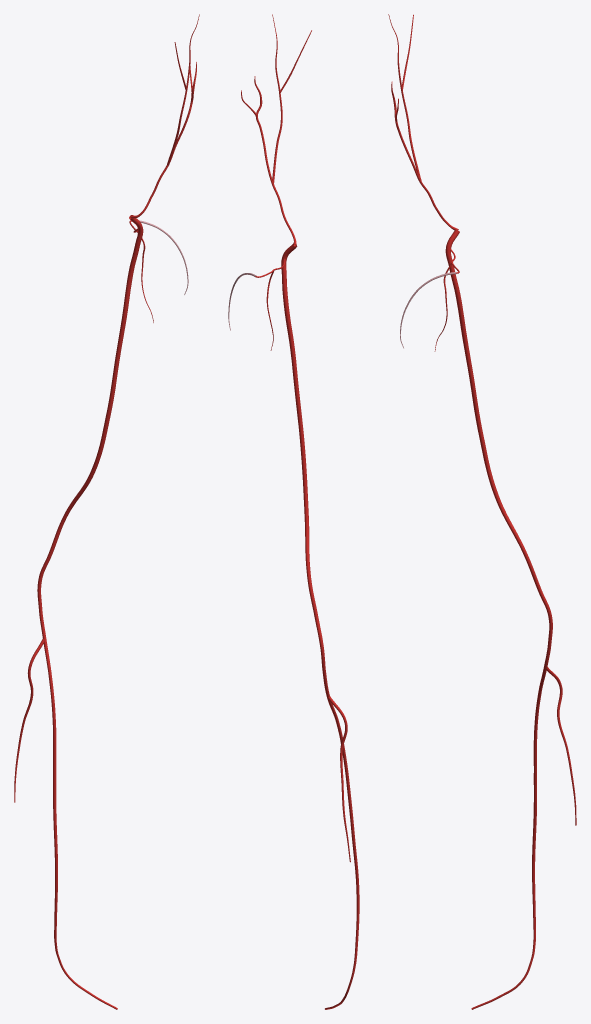
Rendered from circulatorio-great-saphenous-vein-r.glb.
The picture shows the model from 3 angles, left to right: view 1: azimuth 90°, elevation 25°; view 2: azimuth 210°, elevation 25°; view 3: azimuth 270°, elevation 25°; orthographic projection. The views are drawn at different scales.
Visible parts, largest first — view 1: Great saphenous vein.r, Superficial epigastric vein.r; view 2: Great saphenous vein.r, Superficial epigastric vein.r; view 3: Great saphenous vein.r, Superficial epigastric vein.r.
Boxes of the visible parts, left/top/right/bottom form: Great saphenous vein.r: left=14, top=215, right=143, bottom=1009; Superficial epigastric vein.r: left=130, top=14, right=199, bottom=218; Great saphenous vein.r: left=281, top=243, right=359, bottom=1009; Superficial epigastric vein.r: left=241, top=14, right=311, bottom=246; Great saphenous vein.r: left=445, top=229, right=576, bottom=1009; Superficial epigastric vein.r: left=388, top=14, right=458, bottom=230.
Size of the model in its own units: 0.0846 by 1.01 by 0.1713.
